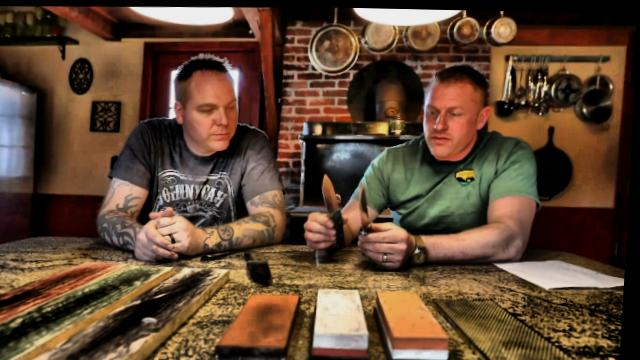knife: (354, 173, 412, 256), (301, 165, 352, 238)
